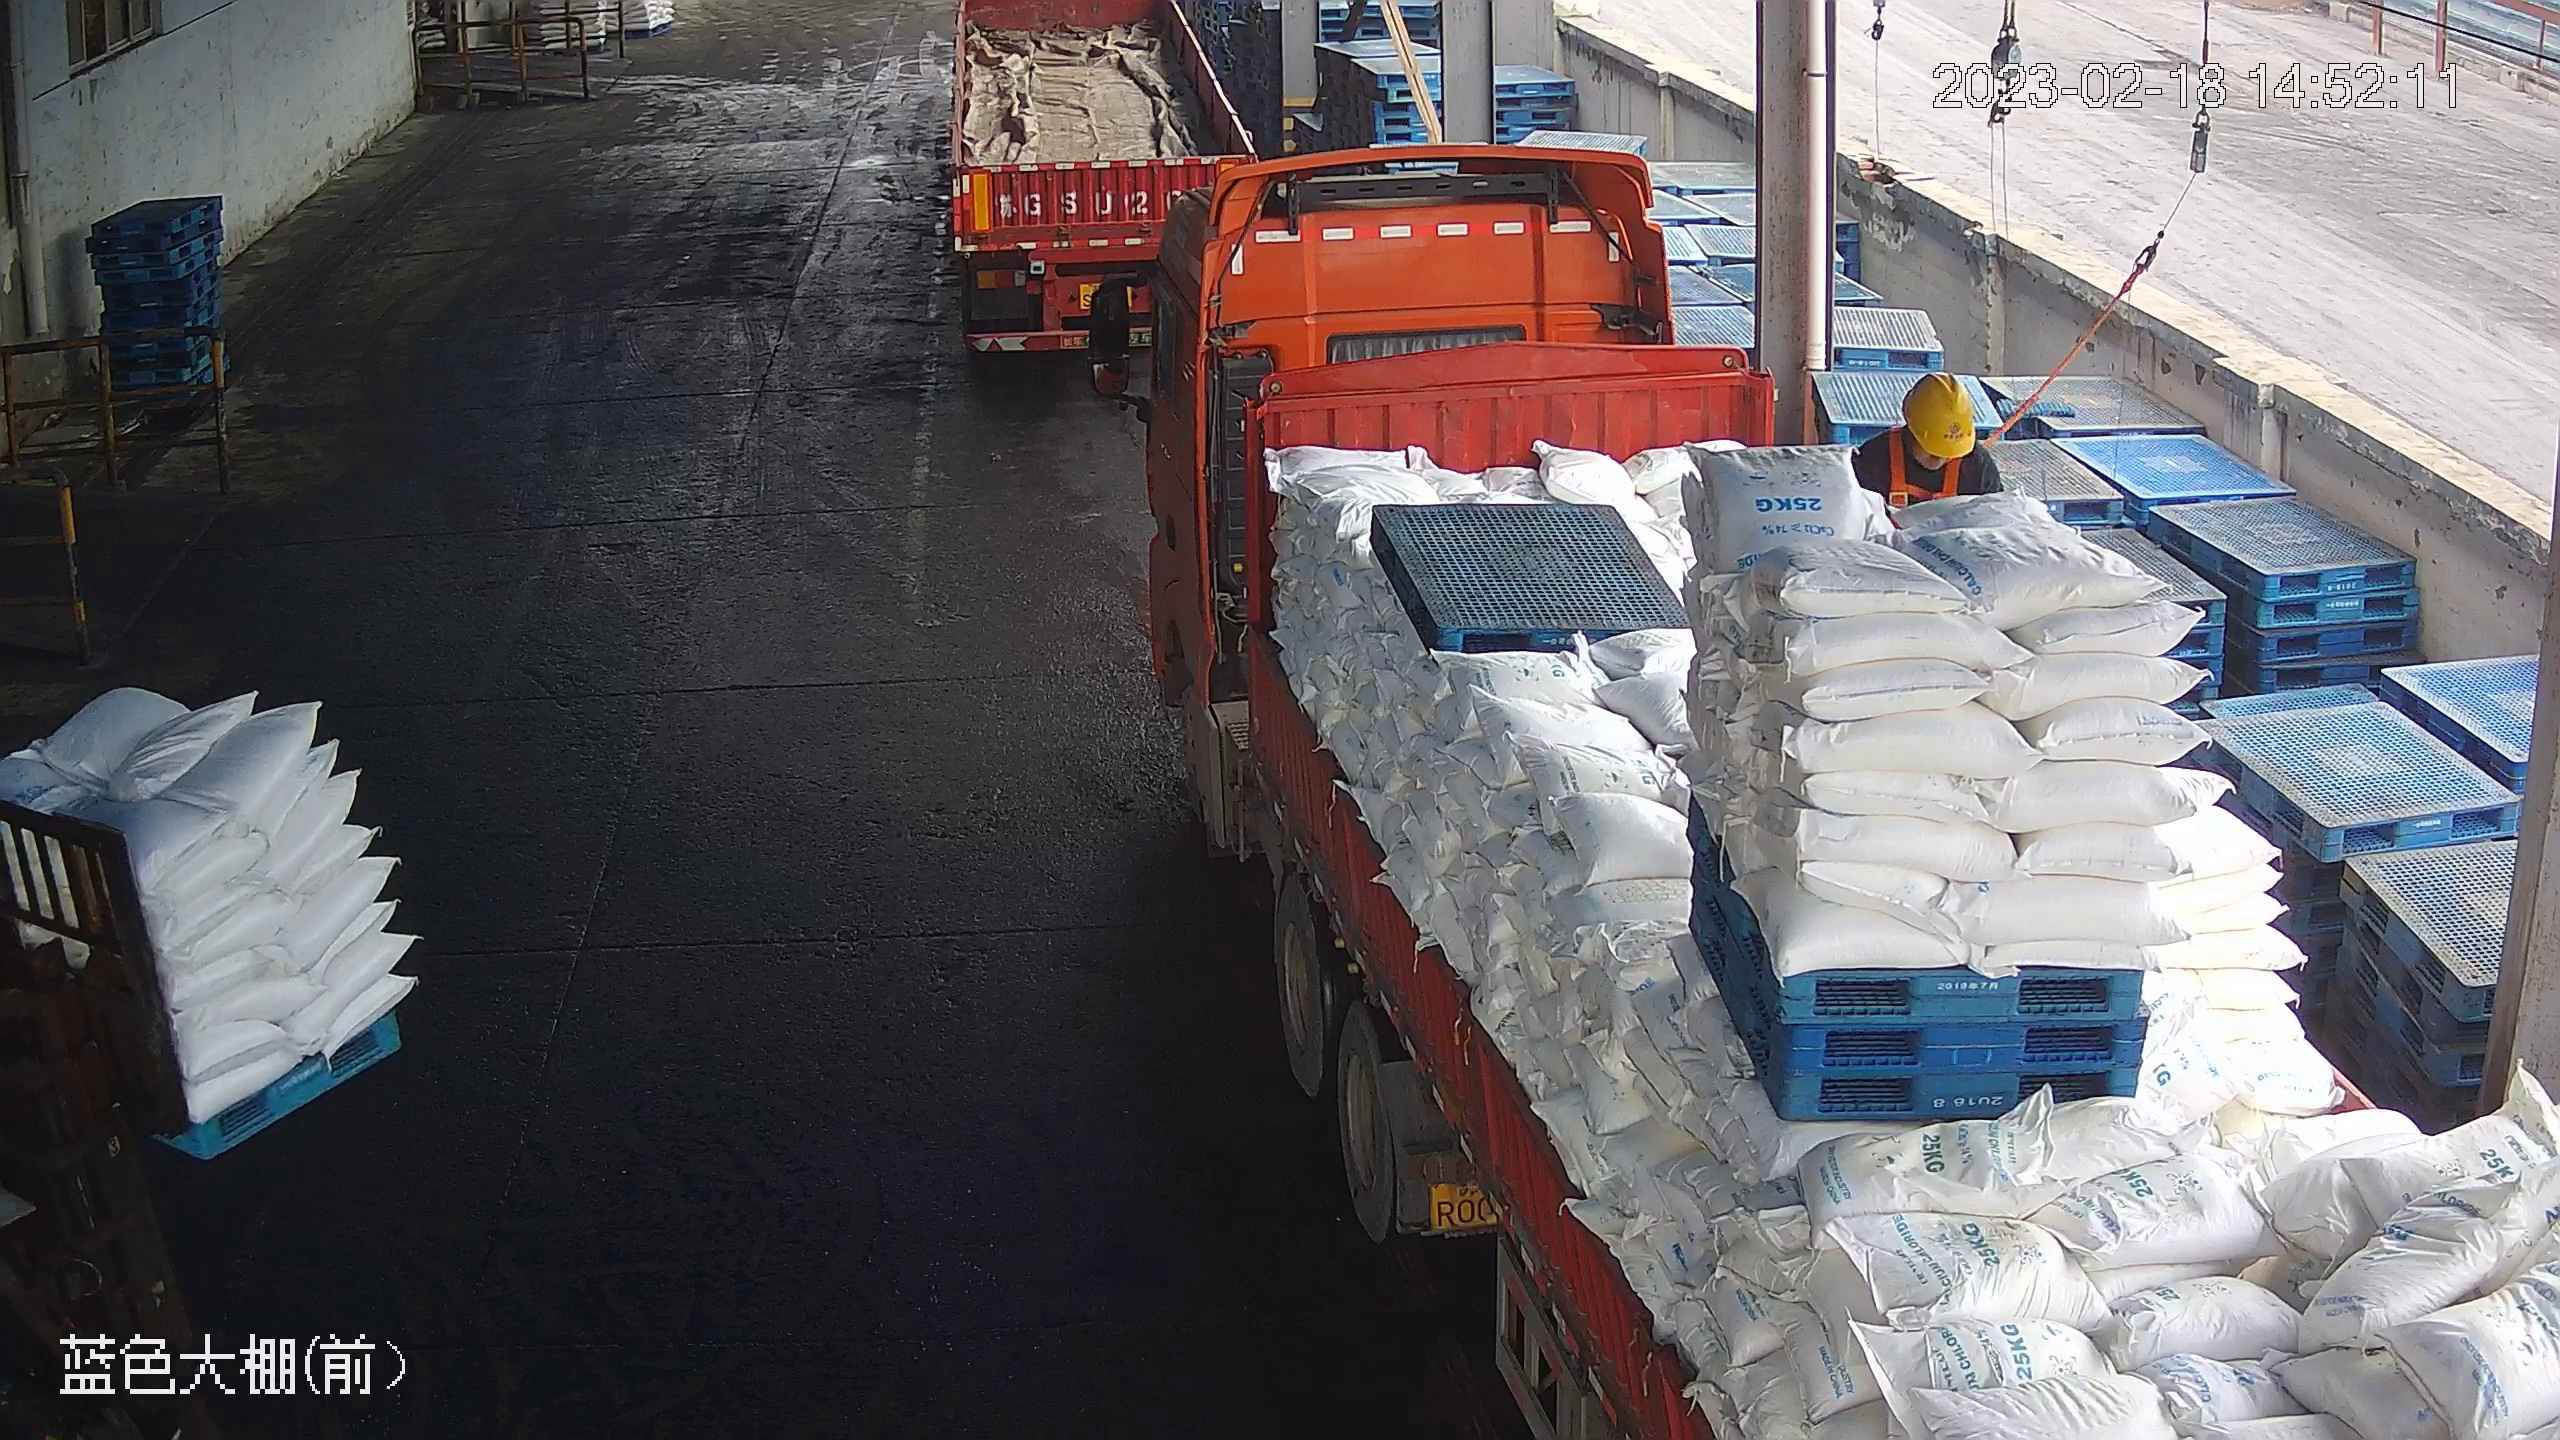belt: (1886, 440, 1965, 511)
head: (1858, 372, 1998, 490)
helmet: (1903, 371, 1978, 458)
truck: (1063, 161, 2554, 1439), (944, 12, 1266, 369)
